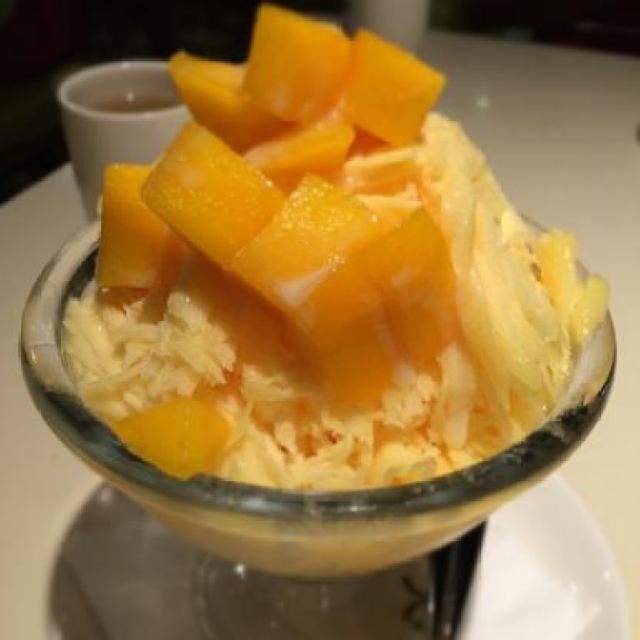Mango: (94, 4, 457, 413), (123, 130, 295, 252), (234, 2, 348, 126), (113, 400, 224, 478)
